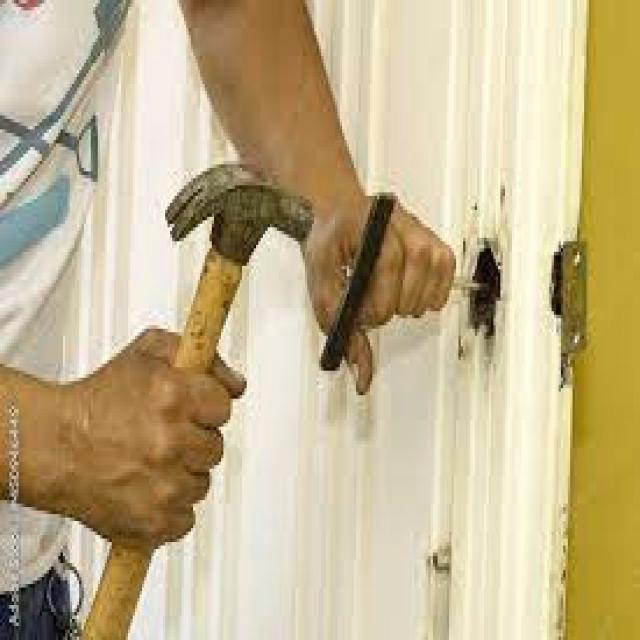hammer: (69, 157, 318, 640)
